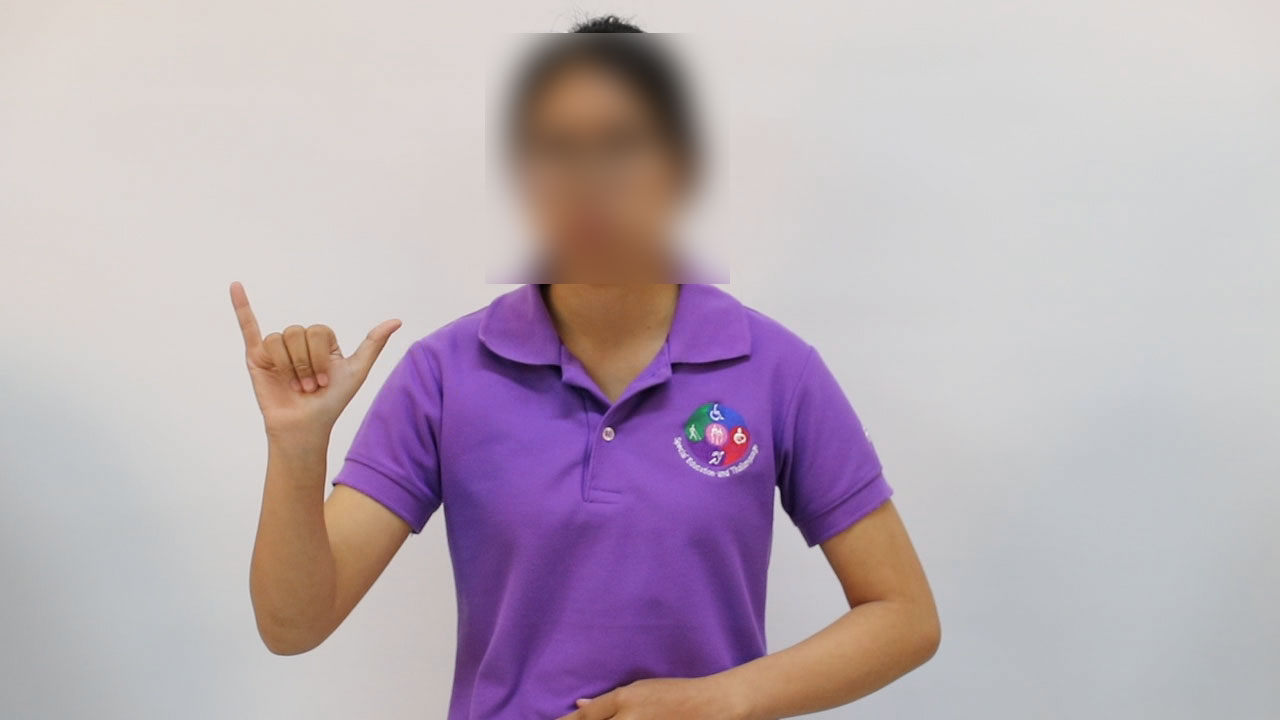yor: (208, 277, 416, 463)
